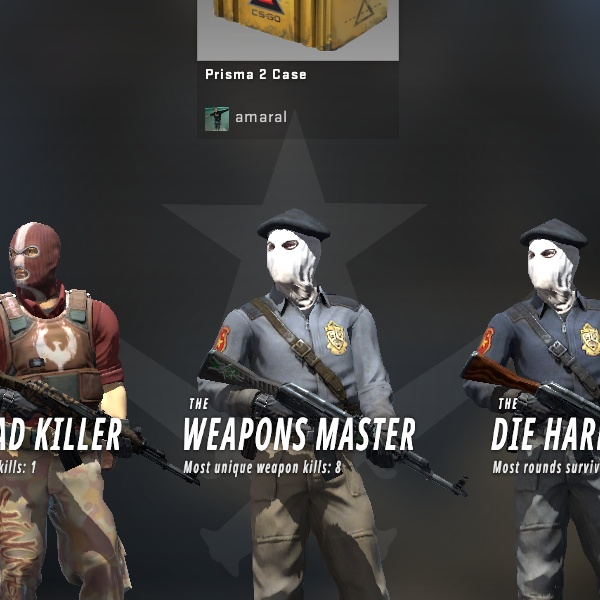t_body: (2, 192, 171, 600)
t_head: (0, 202, 94, 321)
